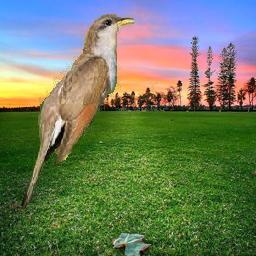Cuckoo: (22, 14, 137, 210)
